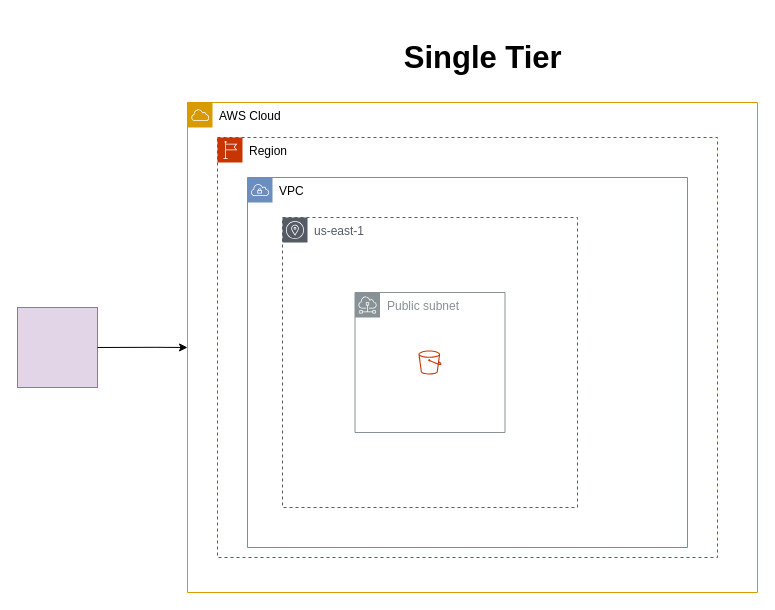
Some shapes in this 775 by 610 pixel diagram are drawn without their labels. Each missing label, with the centre of its shape:
S3 Bucket: point (429, 362)
Terraform configuration file: point (57, 347)
